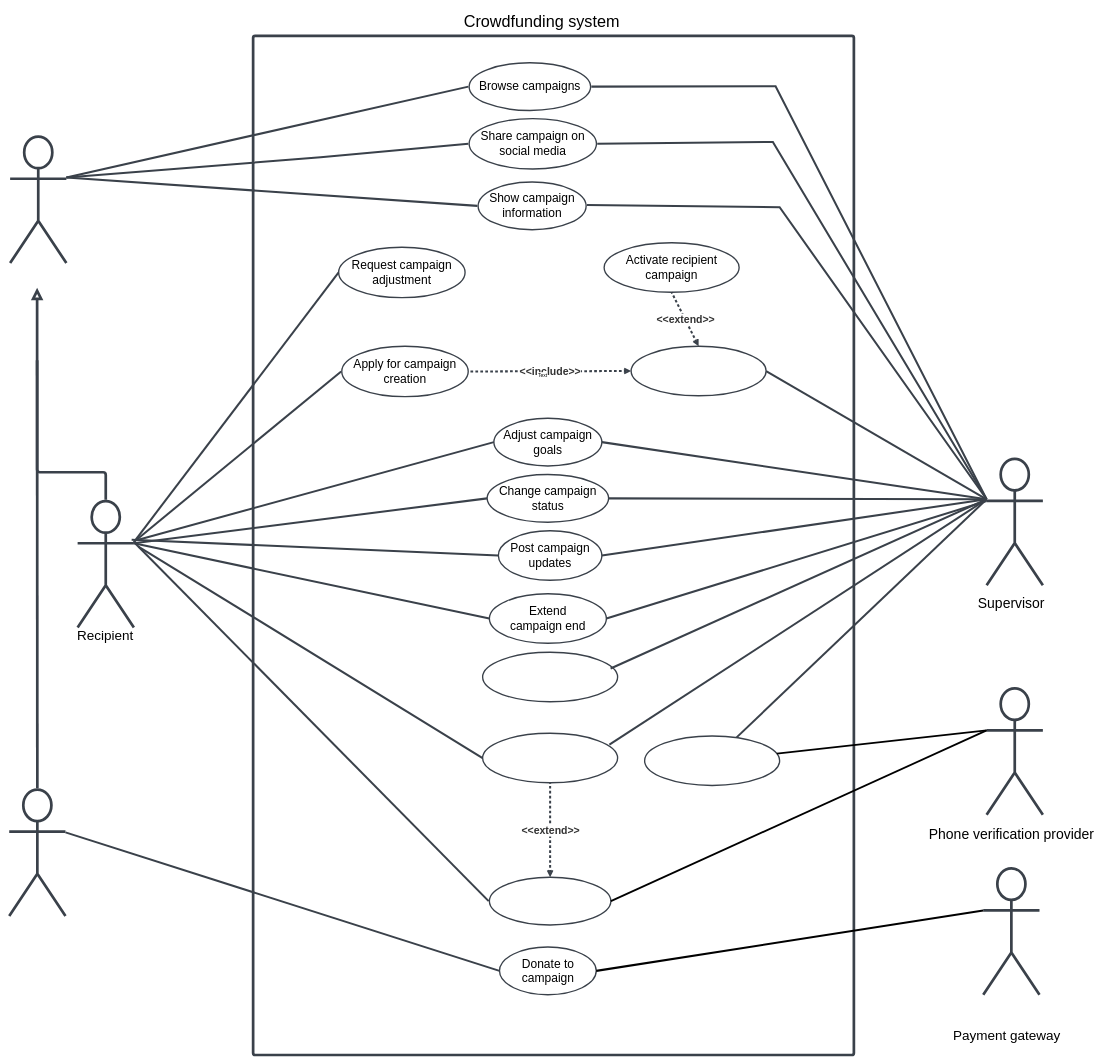
The diagram is 1111 pixels wide and 1064 high, and some of its shapes have lost their labels. The centre of each missing label's shape, as x and y in pixels:
Create recipient account: (549,900)
Donor: (37,852)
End user: (38,199)
Login user: (550,757)
Manage recipient campaigns: (550,676)
Register supervisor: (712,760)
Verify recipient campaign: (698,370)
